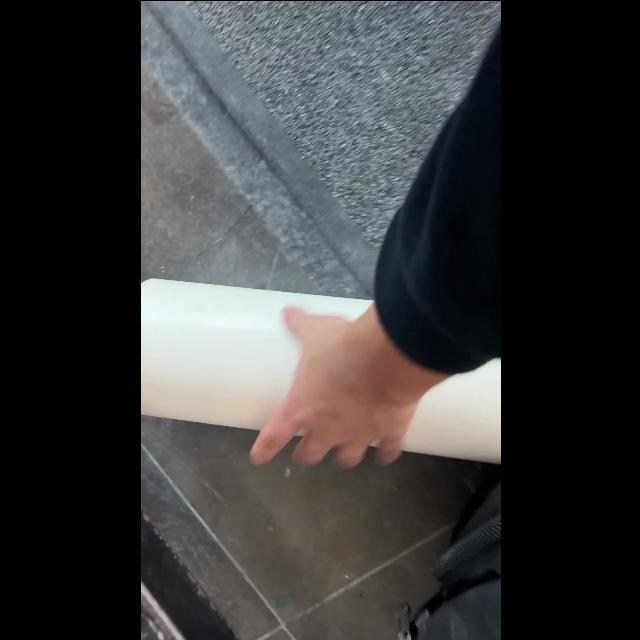CORAL: (141, 276, 499, 466)
